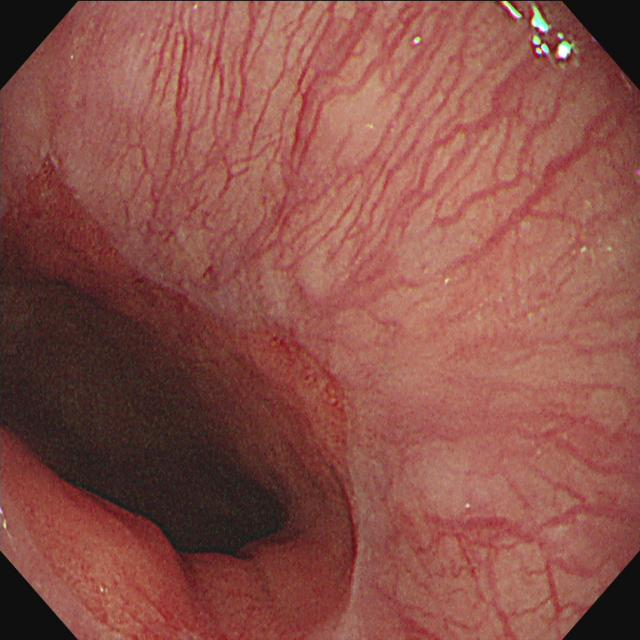E: (13, 292, 288, 562)
U: (530, 2, 575, 62), (502, 2, 526, 23)
